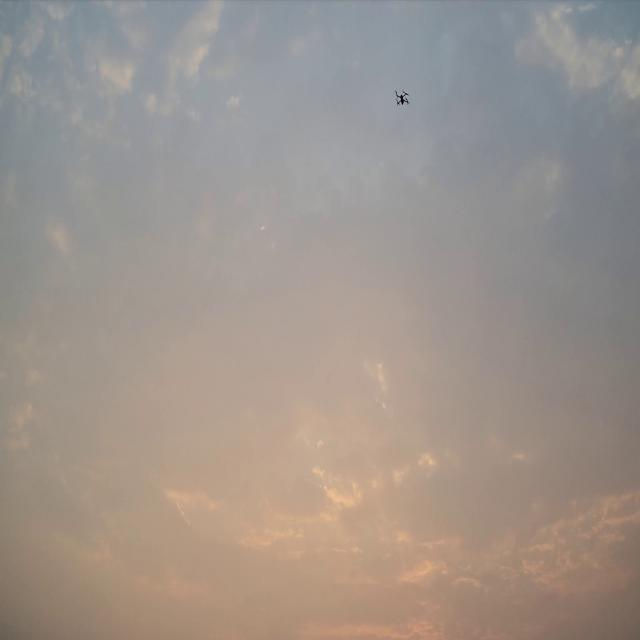drone: (394, 89, 410, 106)
